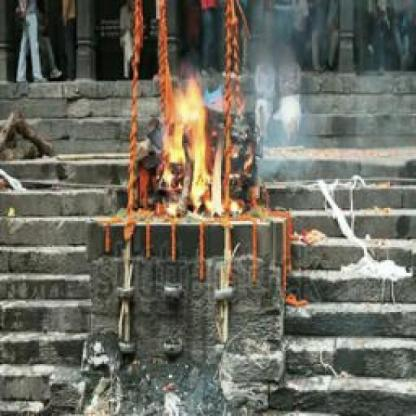fire: (160, 75, 227, 217)
